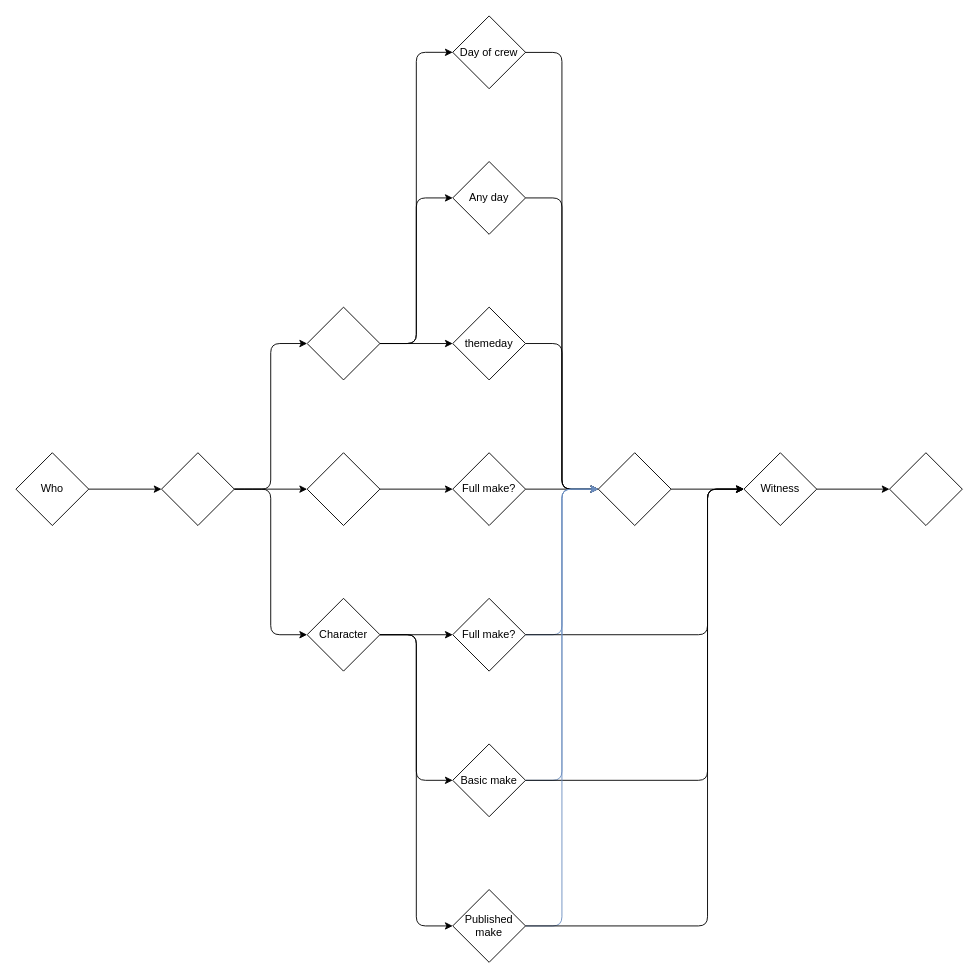
Image size: 978x978. Some labels were removed from this diagram. The centre of each missing label's shape, as x and y in pixels:
Email: the point at 925,489
Monster: the point at 343,343
Recipient: the point at 634,489
Ref: the point at 343,489
Type of make: the point at 197,489
